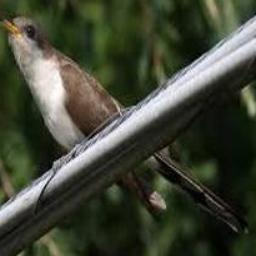Cuckoo: (0, 17, 247, 232)
